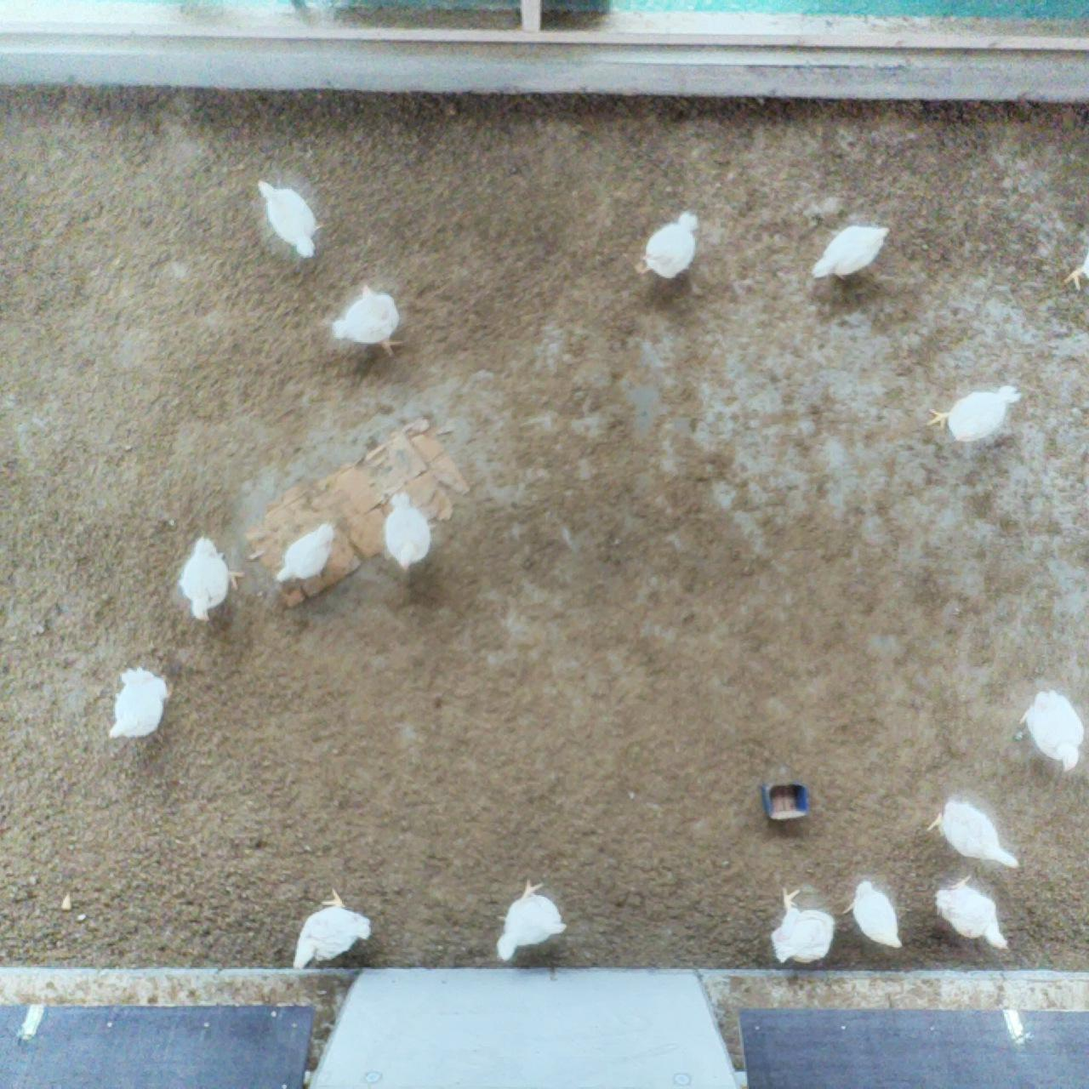chicken: (927, 793, 1020, 872), (292, 886, 373, 973), (931, 872, 1009, 954), (176, 534, 246, 625), (493, 877, 566, 962), (928, 383, 1024, 446), (255, 177, 325, 261), (328, 282, 403, 360), (1018, 687, 1084, 772), (103, 663, 174, 741), (769, 883, 836, 965), (630, 209, 702, 280), (811, 224, 892, 286), (842, 879, 905, 947), (383, 488, 432, 572), (273, 522, 337, 585), (1064, 244, 1089, 296)
